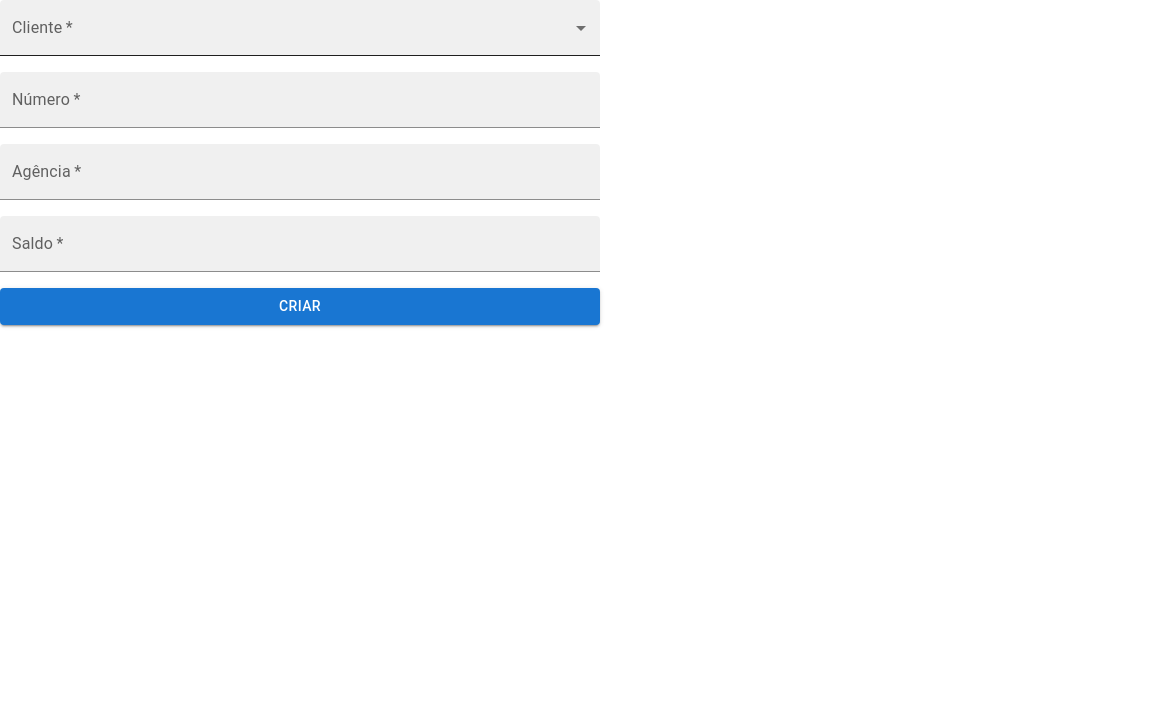
Test: NovaContaForm › deve preencher e enviar o formulário com sucesso
Click the dropdown at (300, 28), box [0, 0, 600, 56]
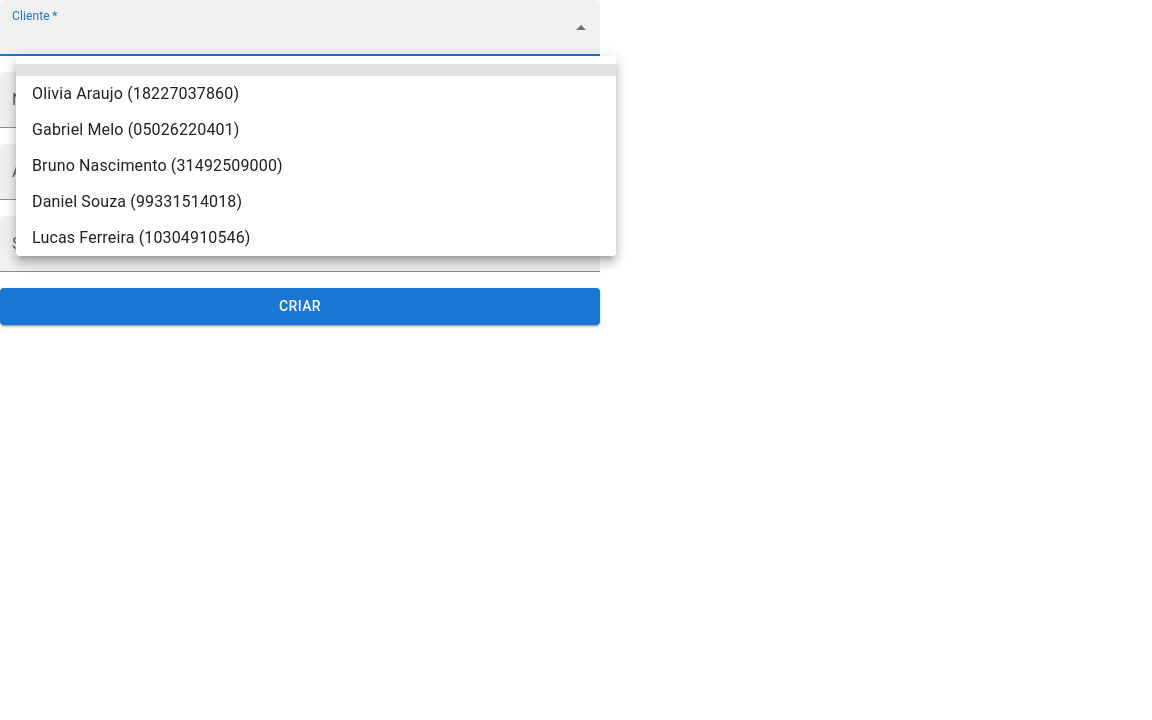
Click the option "Olivia Araujo (18227037860)" at (136, 94), box [32, 84, 239, 103]
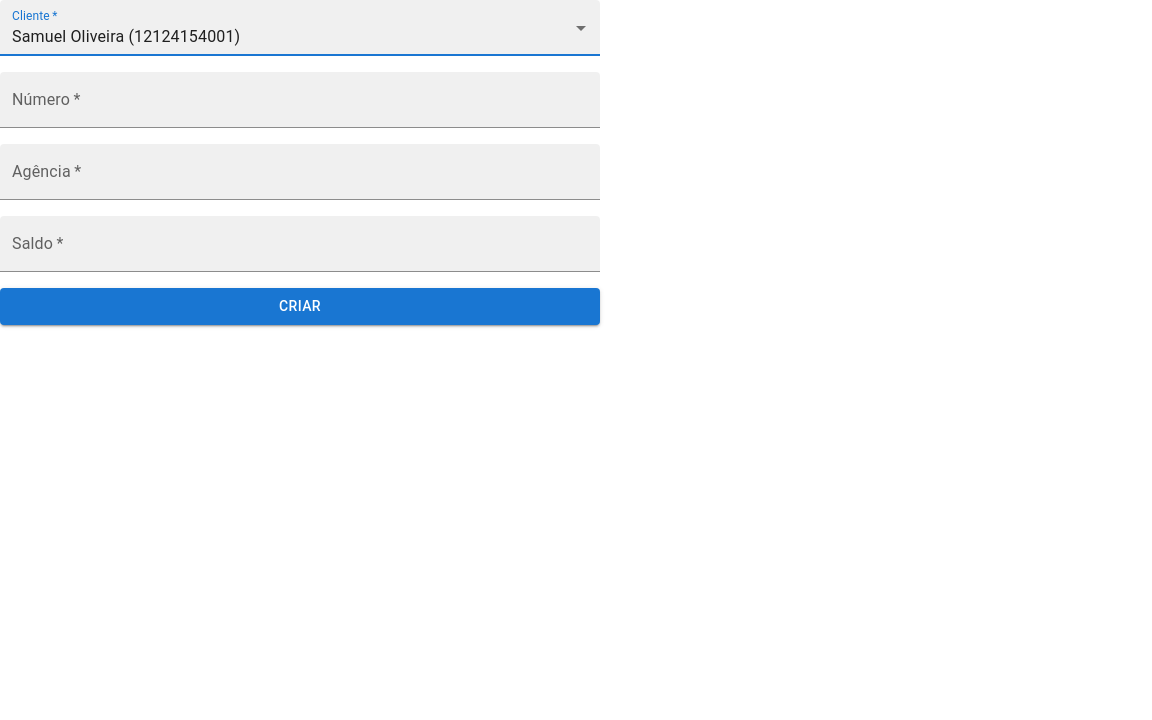
Type "12345" into the field labelled "Número *" at (300, 100), box [0, 72, 600, 128]
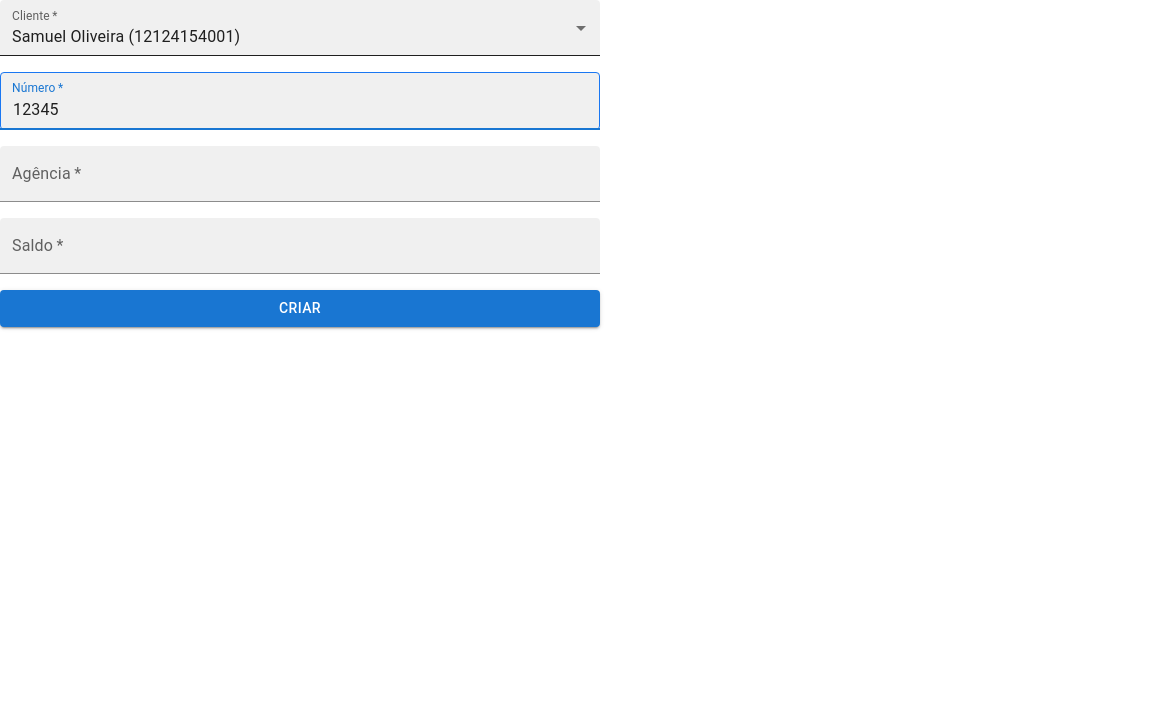
Type "1234" into the field labelled "Agência *" at (300, 174), box [0, 146, 600, 202]
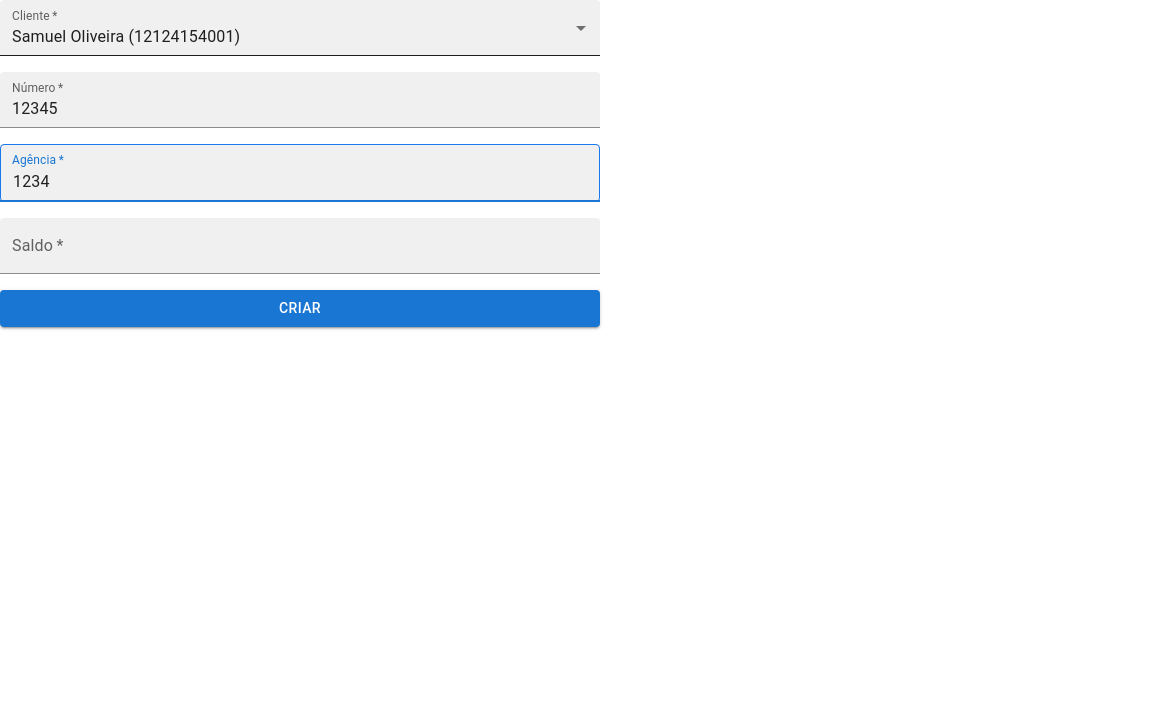
Type "1000" into the field labelled "Saldo *" at (300, 246), box [0, 218, 600, 274]
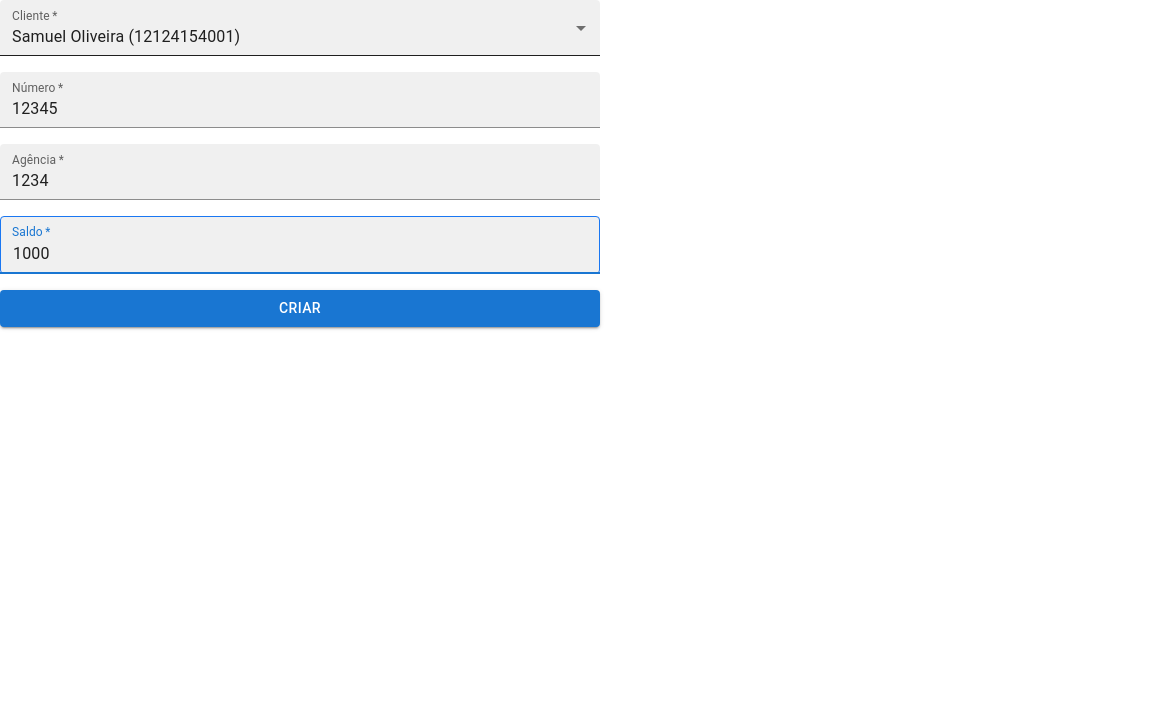
Click the button at (300, 308), box [0, 290, 600, 326]
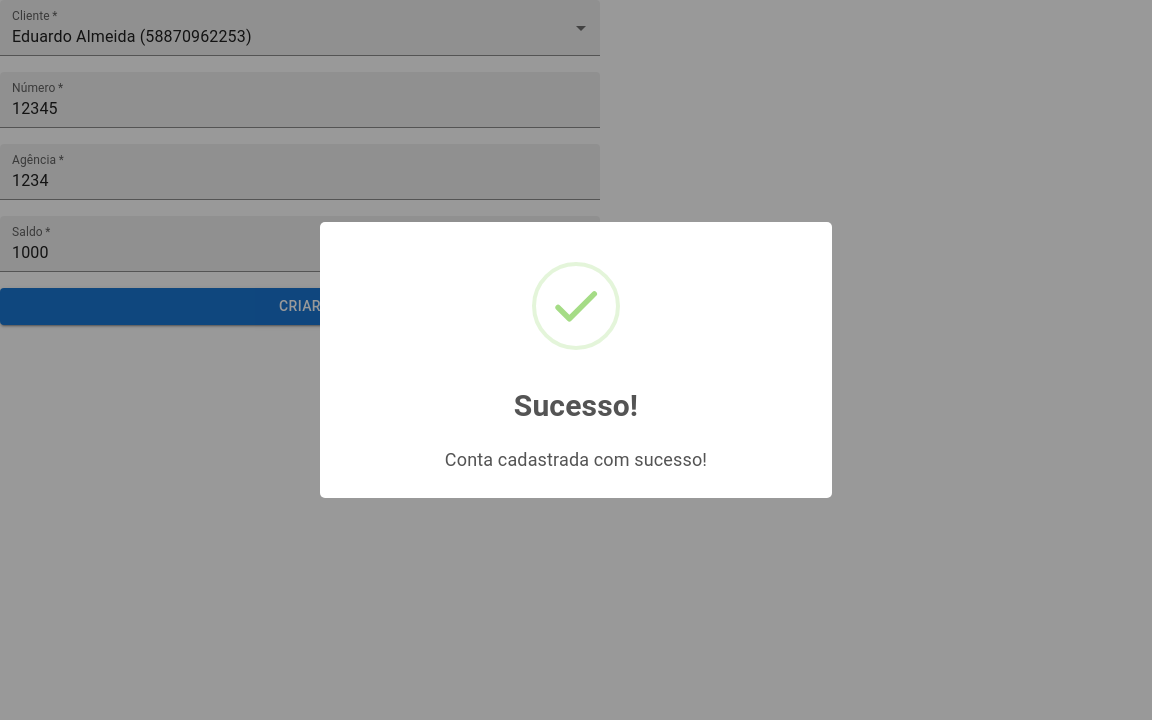
expect the heading with class "swal2-title" reads "Sucesso!": met, box [514, 388, 638, 423]
